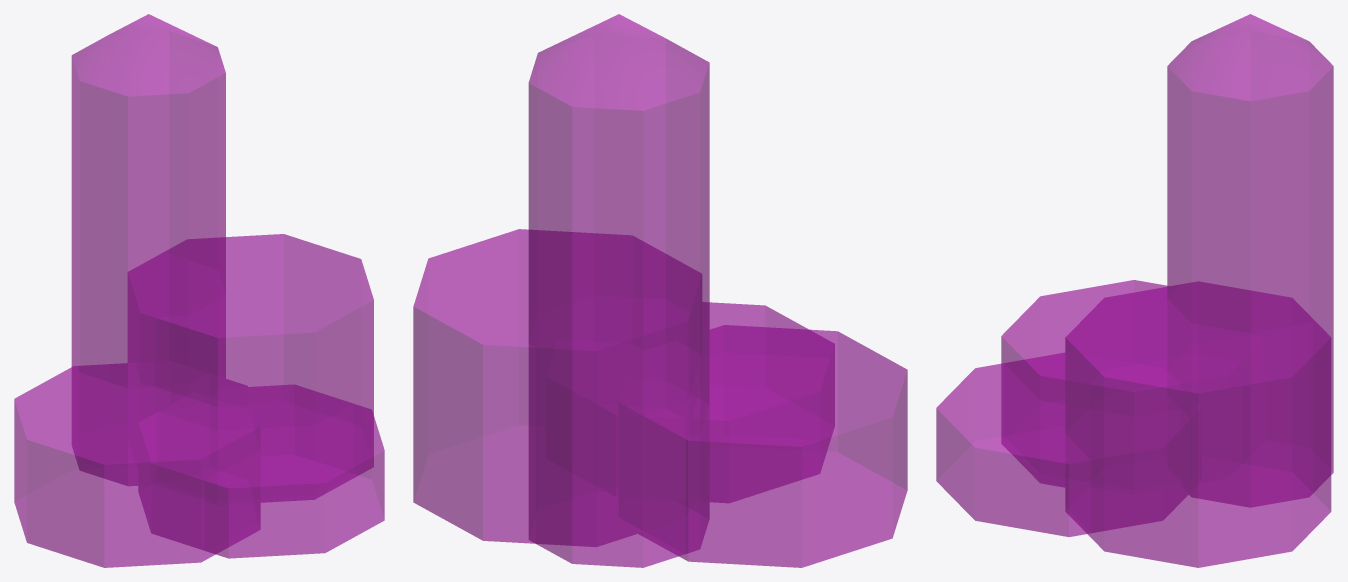
Rendered from SM_Prop_Fountain_03_Collision.fbx.
3 renders of one model, left to right at view 1: azimuth 30°, elevation 25°; view 2: azimuth 150°, elevation 25°; view 3: azimuth 270°, elevation 25°, orthographic. The views are drawn at different scales.
Visible parts, largest first — view 1: SM_Prop_Fountain_03_Collision; view 2: SM_Prop_Fountain_03_Collision; view 3: SM_Prop_Fountain_03_Collision.
Boxes of the visible parts, x1,y1,x2,y2 form: SM_Prop_Fountain_03_Collision: (14,14,384,567); SM_Prop_Fountain_03_Collision: (413,14,907,567); SM_Prop_Fountain_03_Collision: (936,14,1333,567).
Bounding box in the file's own units: 680 × 792 × 615.
